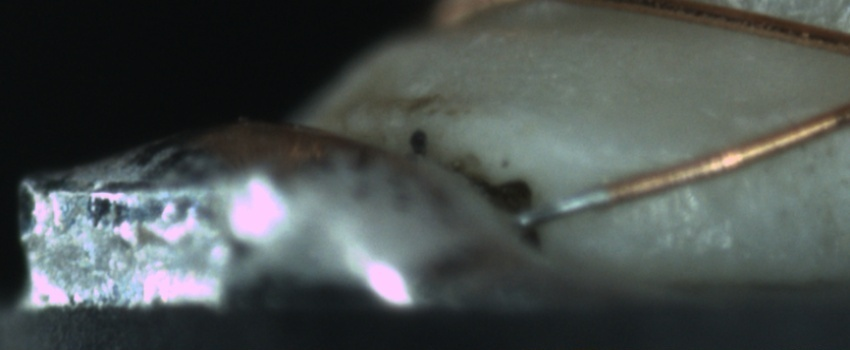TS: (514, 183, 608, 227)
TTCW: (505, 172, 641, 229)
